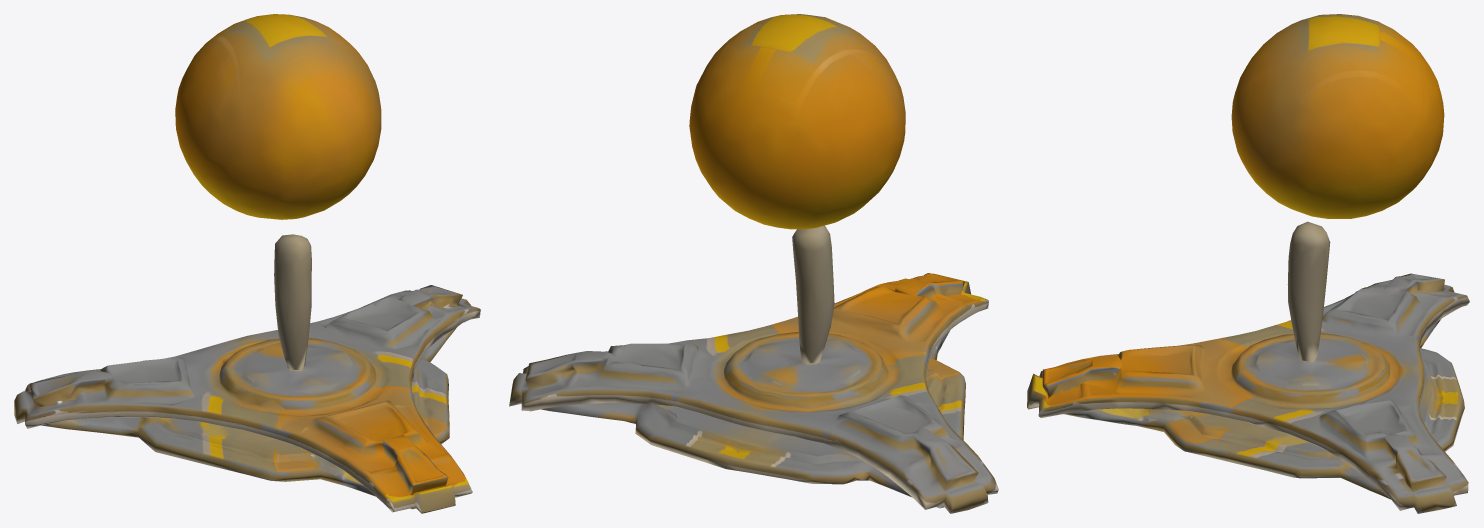
The model's file is pad_platform.glb.
3 views of the same model, side by side, from view 1: azimuth 30°, elevation 25°; view 2: azimuth 150°, elevation 25°; view 3: azimuth 270°, elevation 25° (orthographic). The views are drawn at different scales.
Parts seen in each view (by area): view 1: tripo_node_34cedc0d-d73c-4bf1-98af-4a9dbad7ea89; view 2: tripo_node_34cedc0d-d73c-4bf1-98af-4a9dbad7ea89; view 3: tripo_node_34cedc0d-d73c-4bf1-98af-4a9dbad7ea89.
Boxes of the visible parts, box(x1,y1,x2,y2) form: tripo_node_34cedc0d-d73c-4bf1-98af-4a9dbad7ea89: box(14, 14, 480, 513); tripo_node_34cedc0d-d73c-4bf1-98af-4a9dbad7ea89: box(509, 14, 998, 513); tripo_node_34cedc0d-d73c-4bf1-98af-4a9dbad7ea89: box(1027, 14, 1469, 513).
Size of the model in its own units: 1 by 0.9158 by 0.8404.
Materials: 1 (1 with a texture image).
